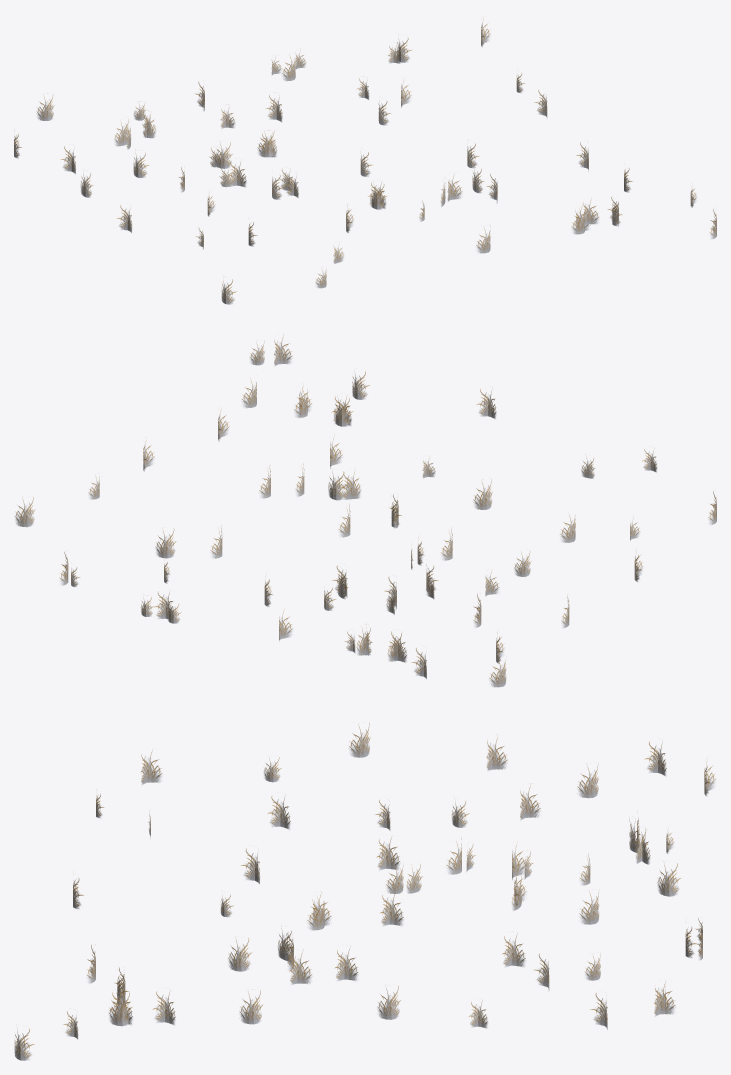
The model's file is grass.glb.
3 views of the same model, one above another, from view 1: azimuth 30°, elevation 25°; view 2: azimuth 150°, elevation 25°; view 3: azimuth 270°, elevation 25° (orthographic). The views are drawn at different scales.
Parts seen in each view (by area): view 1: Plane.001; view 2: Plane.001; view 3: Plane.001.
Boxes of the visible parts, x1,y1,x2,y2 form: Plane.001: [14, 20, 716, 304]; Plane.001: [15, 335, 716, 687]; Plane.001: [14, 723, 715, 1060].
Bounding box in the file's own units: 61.99 × 7.04 × 63.27.
Materials: 1 (1 with a texture image).
